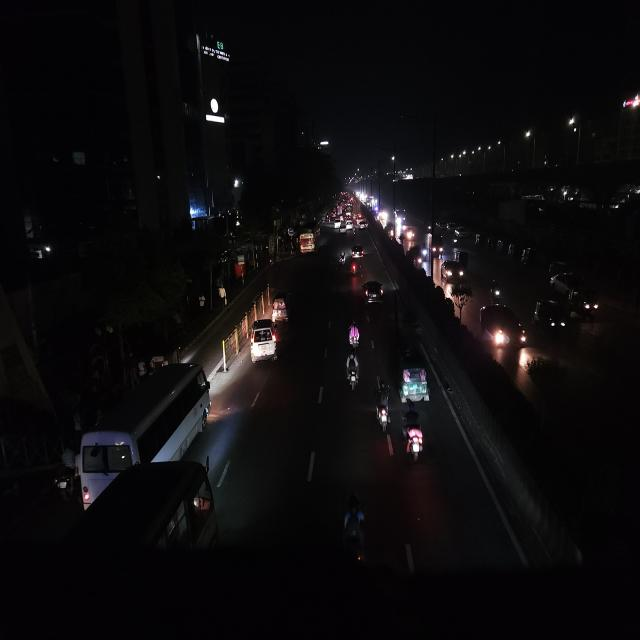bus: (68, 360, 214, 507), (297, 221, 322, 256)
car: (478, 299, 528, 365), (550, 269, 600, 320), (247, 316, 279, 371), (362, 278, 386, 308), (441, 256, 464, 285), (409, 244, 422, 268), (350, 242, 366, 260), (404, 226, 416, 241), (386, 220, 396, 237), (400, 223, 410, 236), (356, 216, 365, 229), (346, 223, 354, 236), (337, 221, 345, 233)
cng: (398, 348, 432, 405), (532, 296, 572, 337), (270, 288, 293, 327)
motorcycle: (340, 488, 369, 583), (400, 403, 428, 468), (374, 381, 394, 438), (343, 349, 362, 397), (346, 317, 362, 354), (488, 276, 504, 305), (349, 258, 359, 277), (339, 248, 347, 268)
